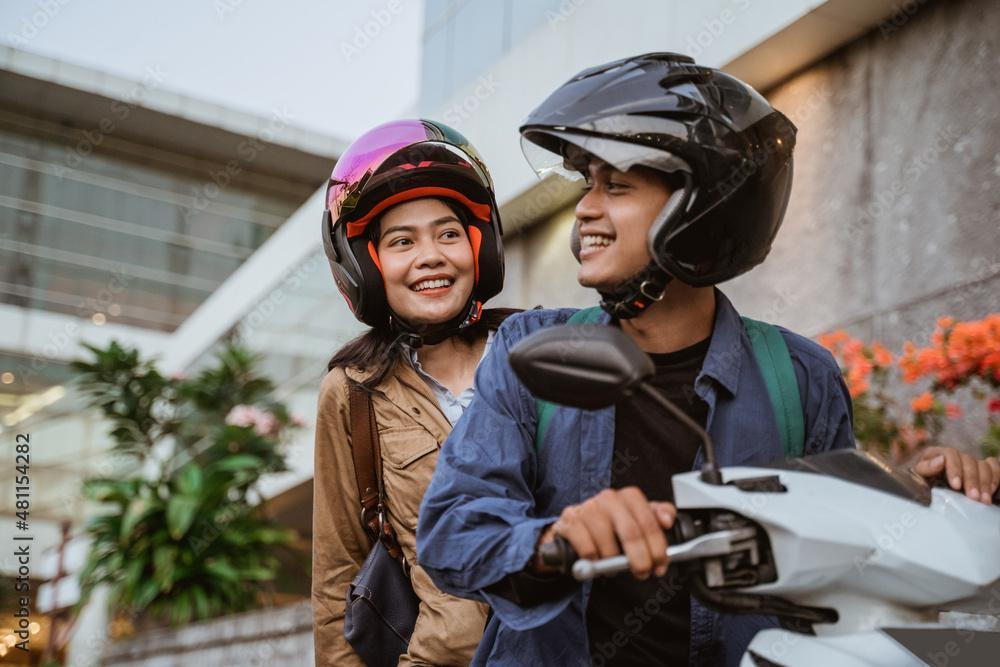helmet: (517, 50, 799, 322), (320, 115, 508, 351)
